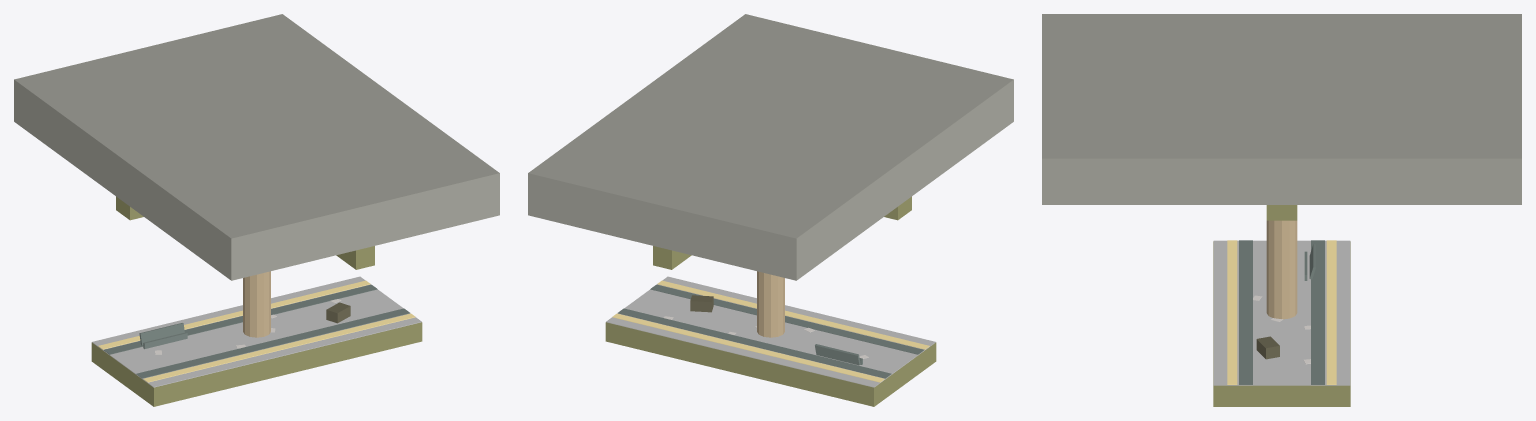
File: SM_AndenLosa_Central_v0_Abandonada_LOD0.fbx
3 renders of one model, left to right at view 1: azimuth 30°, elevation 25°; view 2: azimuth 150°, elevation 25°; view 3: azimuth 270°, elevation 25°, orthographic. The views are drawn at different scales.
Visible parts, largest first — view 1: Losa, SM_anden_losa_v0_LOD0; view 2: Losa, SM_anden_losa_v0_LOD0; view 3: Losa, SM_anden_losa_v0_LOD0.
Part boxes in pixels (bbox=[...]): Losa: bbox=[14, 14, 499, 280]; SM_anden_losa_v0_LOD0: bbox=[91, 271, 422, 406]; Losa: bbox=[528, 14, 1013, 280]; SM_anden_losa_v0_LOD0: bbox=[605, 271, 936, 406]; Losa: bbox=[1042, 14, 1521, 220]; SM_anden_losa_v0_LOD0: bbox=[1213, 220, 1350, 406].
Bounding box in the file's own units: 9.98 × 8 × 14.
